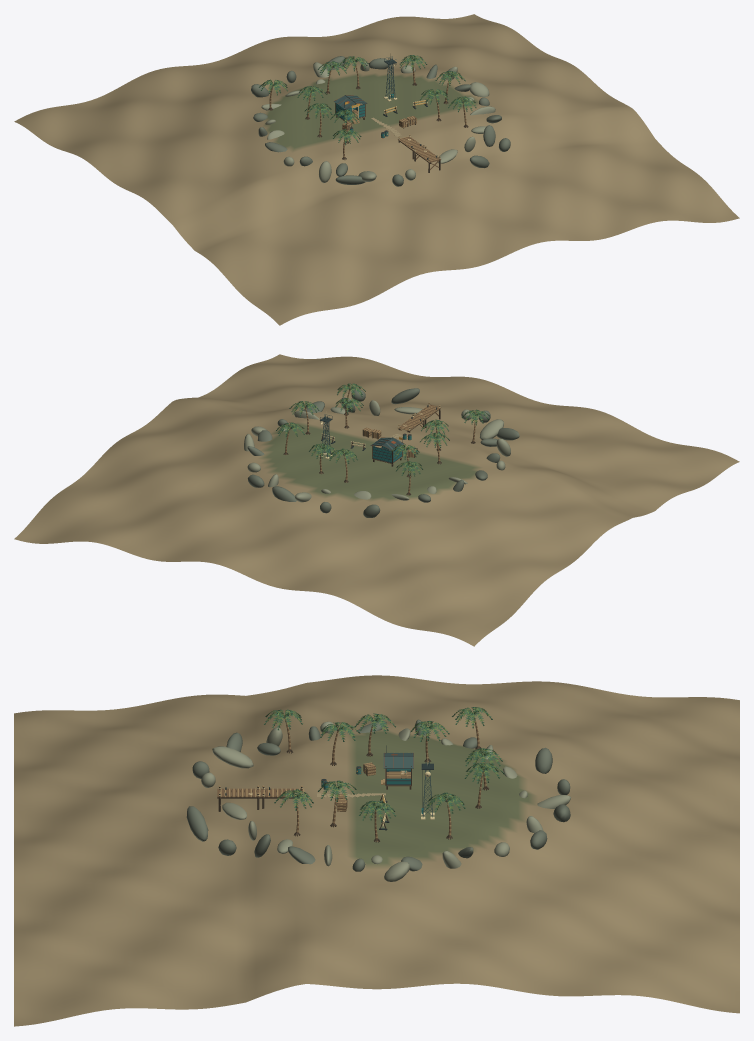
The model's file is L_PuertoChico_Prototype.glb.
The picture shows the model from 3 angles, top to bottom: view 1: azimuth 30°, elevation 25°; view 2: azimuth 150°, elevation 25°; view 3: azimuth 270°, elevation 25°; orthographic projection. The views are drawn at different scales.
Parts seen in each view (by area): view 1: L_PuertoChico_Prototype_M_Island_Prototype, L_PuertoChico_Prototype, L_PuertoChico_Prototype_M_DH_leaf, L_PuertoChico_Prototype_M_DH_leafLight, L_PuertoChico_Prototype_M_DH_wood, L_PuertoChico_Prototype_M_DH_woodLight, L_PuertoChico_Prototype_M_DH_steel; view 2: L_PuertoChico_Prototype_M_Island_Prototype, L_PuertoChico_Prototype, L_PuertoChico_Prototype_M_DH_leaf, L_PuertoChico_Prototype_M_DH_leafLight, L_PuertoChico_Prototype_M_DH_wood, L_PuertoChico_Prototype_M_DH_woodLight, L_PuertoChico_Prototype_M_DH_steel; view 3: L_PuertoChico_Prototype_M_Island_Prototype, L_PuertoChico_Prototype, L_PuertoChico_Prototype_M_DH_leaf, L_PuertoChico_Prototype_M_DH_leafLight, L_PuertoChico_Prototype_M_DH_wood, L_PuertoChico_Prototype_M_DH_woodLight, L_PuertoChico_Prototype_M_DH_steel, L_PuertoChico_Prototype_M_DH_woodDark.
Boxes of the visible parts, <box> form: L_PuertoChico_Prototype_M_Island_Prototype: <box>14,14,739,325</box>; L_PuertoChico_Prototype: <box>251,56,510,186</box>; L_PuertoChico_Prototype_M_DH_leaf: <box>259,55,476,145</box>; L_PuertoChico_Prototype_M_DH_leafLight: <box>260,55,475,143</box>; L_PuertoChico_Prototype_M_DH_wood: <box>269,63,466,169</box>; L_PuertoChico_Prototype_M_DH_woodLight: <box>269,64,466,161</box>; L_PuertoChico_Prototype_M_DH_steel: <box>334,56,396,120</box>; L_PuertoChico_Prototype_M_Island_Prototype: <box>14,354,739,646</box>; L_PuertoChico_Prototype: <box>244,388,519,517</box>; L_PuertoChico_Prototype_M_DH_leaf: <box>276,383,489,476</box>; L_PuertoChico_Prototype_M_DH_leafLight: <box>277,384,488,473</box>; L_PuertoChico_Prototype_M_DH_wood: <box>285,390,475,493</box>; L_PuertoChico_Prototype_M_DH_woodLight: <box>285,388,475,495</box>; L_PuertoChico_Prototype_M_DH_steel: <box>320,414,403,463</box>; L_PuertoChico_Prototype_M_Island_Prototype: <box>14,675,739,1026</box>; L_PuertoChico_Prototype: <box>186,719,571,881</box>; L_PuertoChico_Prototype_M_DH_leaf: <box>264,707,504,821</box>; L_PuertoChico_Prototype_M_DH_leafLight: <box>265,707,502,821</box>; L_PuertoChico_Prototype_M_DH_wood: <box>217,715,486,840</box>; L_PuertoChico_Prototype_M_DH_woodLight: <box>218,715,486,841</box>; L_PuertoChico_Prototype_M_DH_steel: <box>383,753,432,817</box>; L_PuertoChico_Prototype_M_DH_woodDark: <box>217,716,489,842</box>.
Bounding box in the file's own units: 100 × 21.32 × 100.
